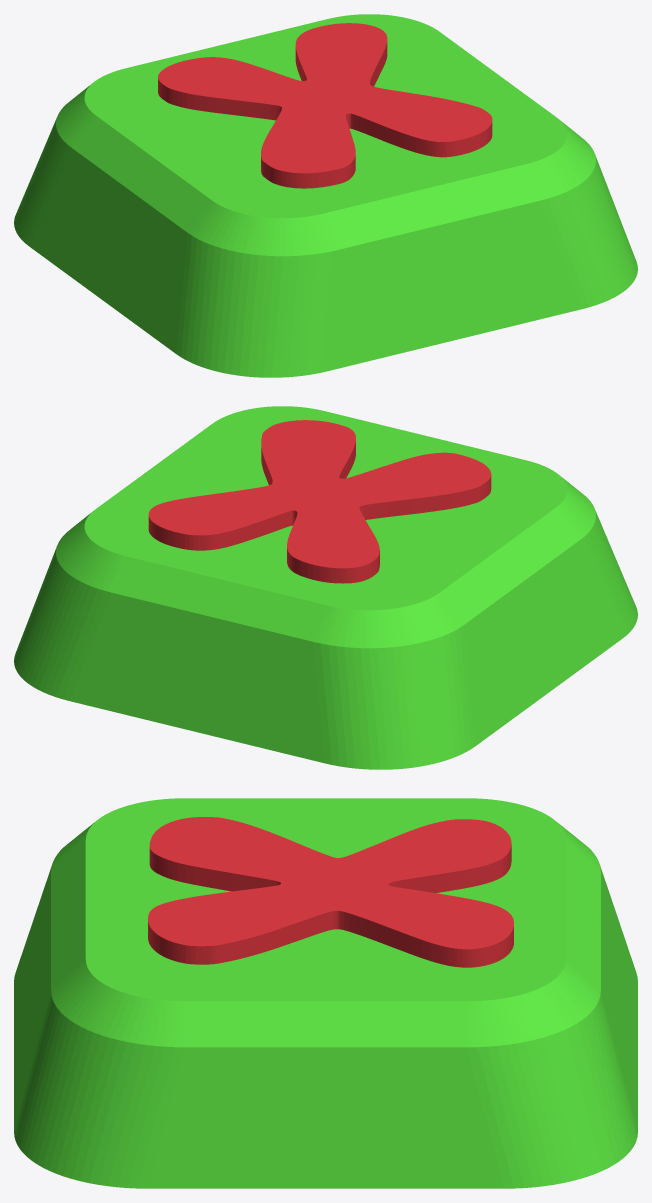
The picture shows the model from 3 angles, top to bottom: view 1: azimuth 30°, elevation 25°; view 2: azimuth 150°, elevation 25°; view 3: azimuth 270°, elevation 25°; orthographic projection. The views are drawn at different scales.
Parts seen in each view (by area): view 1: CAPS_X, FONT_X; view 2: CAPS_X, FONT_X; view 3: CAPS_X, FONT_X.
Boxes of the visible parts, bbox=[...] form: CAPS_X: bbox=[14, 14, 637, 377]; FONT_X: bbox=[158, 23, 492, 188]; CAPS_X: bbox=[14, 406, 637, 769]; FONT_X: bbox=[148, 420, 491, 583]; CAPS_X: bbox=[14, 798, 637, 1188]; FONT_X: bbox=[148, 817, 513, 967].
Bounding box in the file's own units: 18 × 5.59 × 18.
